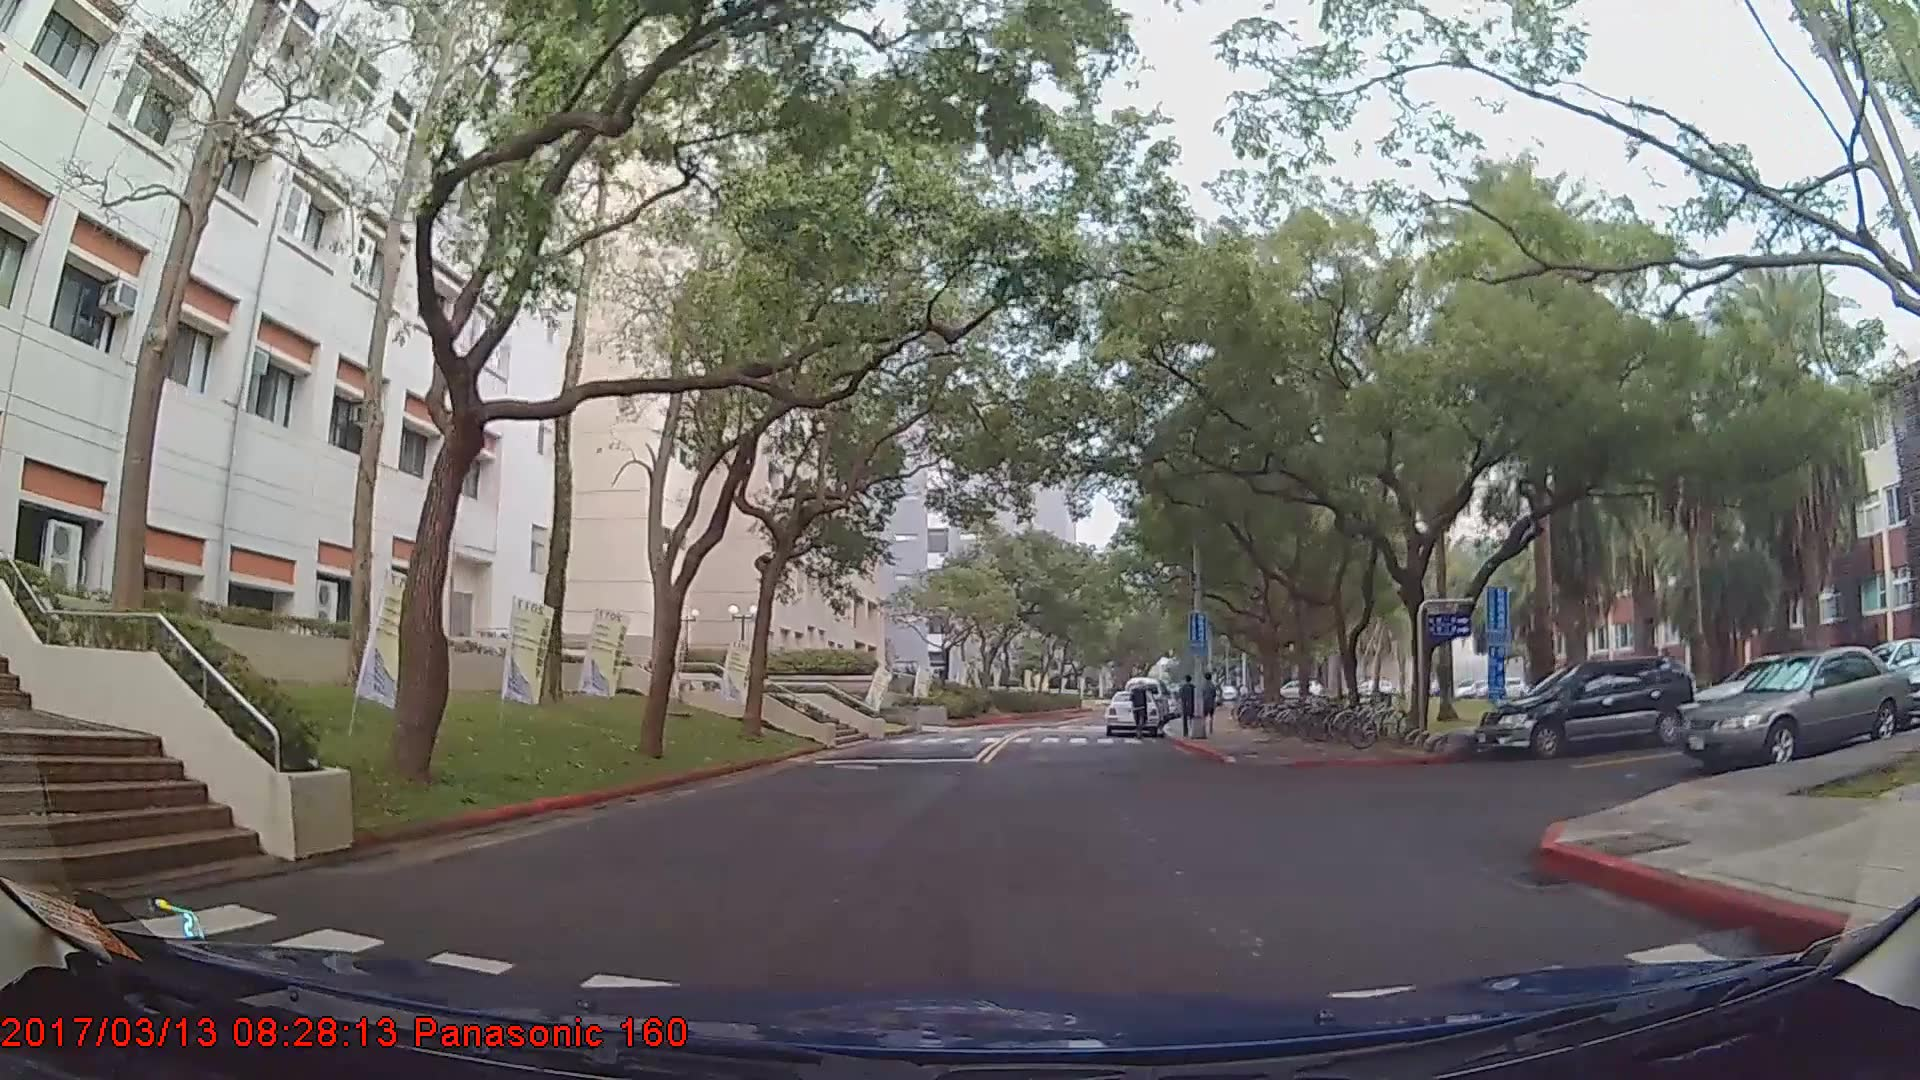pedestrian: (1180, 677, 1202, 734), (1131, 681, 1151, 742)
vehicle: (1677, 645, 1915, 771), (1475, 653, 1693, 761), (1100, 687, 1159, 734)
